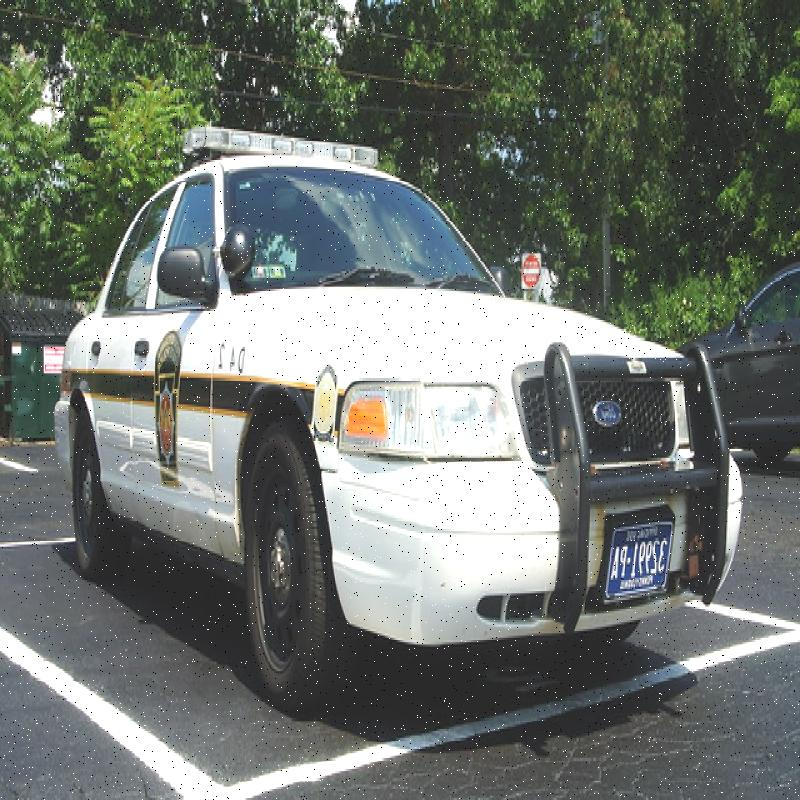AmbulanceSiren: (176, 91, 389, 173)
